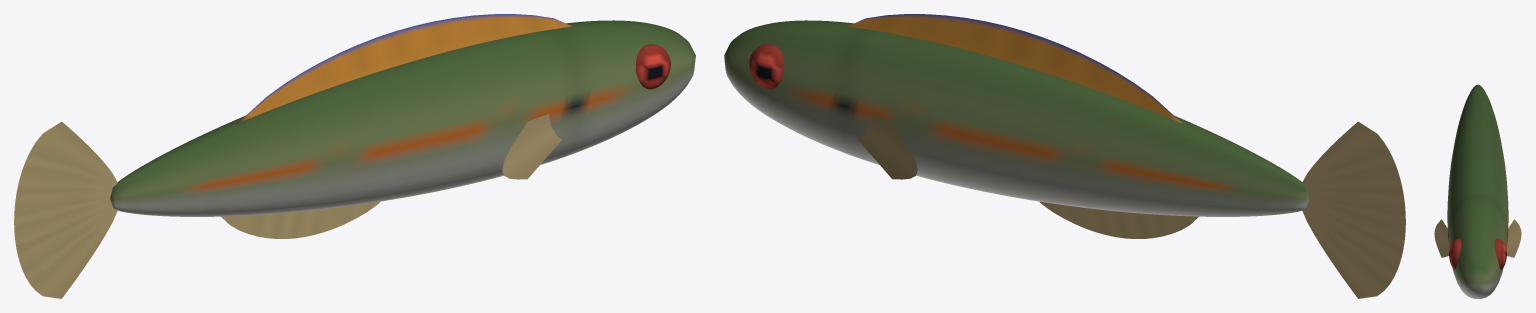
The model's file is gelincik.glb.
3 renders of one model, left to right at view 1: azimuth 30°, elevation 25°; view 2: azimuth 150°, elevation 25°; view 3: azimuth 270°, elevation 25°, orthographic. The views are drawn at different scales.
Visible parts, largest first — view 1: gelincik_govde, gelincik_kuyruk, gelincik_sirt, gelincik_anal_a, gelincik_gogusL, gelincik_gozL; view 2: gelincik_govde, gelincik_kuyruk, gelincik_sirt, gelincik_anal_a, gelincik_gogusR, gelincik_gozR; view 3: gelincik_govde, gelincik_gogusL, gelincik_gogusR, gelincik_gozL, gelincik_gozR.
Boxes of the visible parts, box(x1,y1,x2,y2) form: gelincik_govde: box(110, 20, 695, 216); gelincik_kuyruk: box(14, 121, 117, 298); gelincik_sirt: box(236, 14, 571, 123); gelincik_anal_a: box(221, 201, 379, 238); gelincik_gogusL: box(502, 114, 561, 179); gelincik_gozL: box(635, 44, 670, 89); gelincik_govde: box(724, 20, 1309, 216); gelincik_kuyruk: box(1302, 121, 1405, 298); gelincik_sirt: box(848, 14, 1183, 123); gelincik_anal_a: box(1040, 201, 1198, 238); gelincik_gogusR: box(858, 114, 917, 179); gelincik_gozR: box(749, 44, 784, 89); gelincik_govde: box(1447, 84, 1508, 298); gelincik_gogusL: box(1434, 219, 1449, 257); gelincik_gogusR: box(1506, 219, 1521, 257); gelincik_gozL: box(1449, 238, 1461, 269); gelincik_gozR: box(1494, 238, 1506, 269).
Size of the model in its own units: 0.965 by 0.253 by 0.1582.
